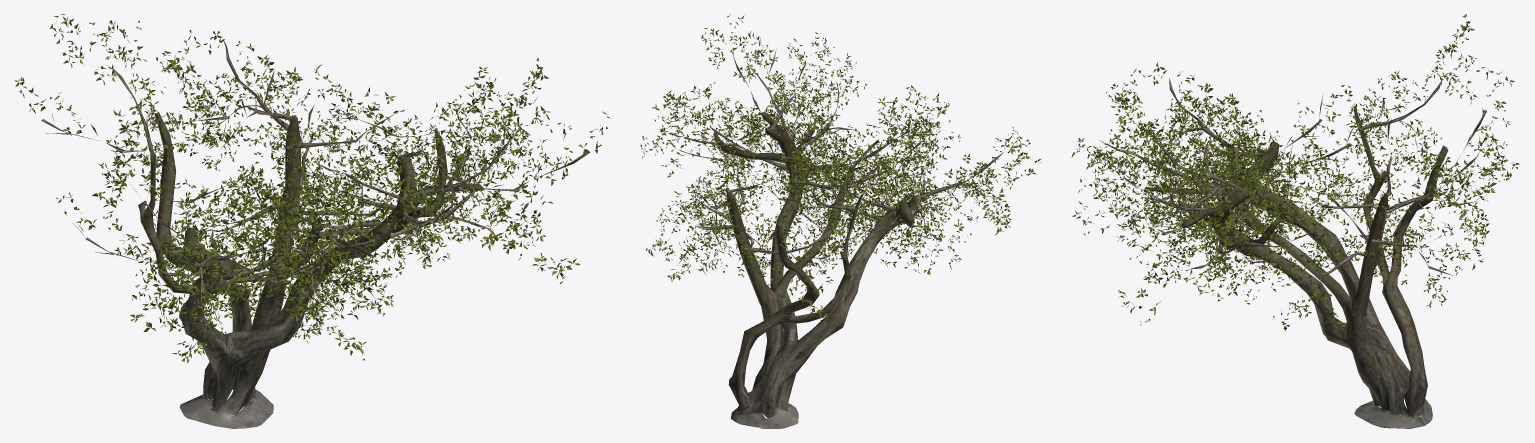
File: lana-tree.glb
The picture shows the model from 3 angles, left to right: view 1: azimuth 30°, elevation 25°; view 2: azimuth 150°, elevation 25°; view 3: azimuth 270°, elevation 25°; orthographic projection. The views are drawn at different scales.
Visible parts, largest first — view 1: island_tree_02_LOD0.002, island_tree_02_LOD0.001, island_tree_02_LOD0; view 2: island_tree_02_LOD0.002, island_tree_02_LOD0.001, island_tree_02_LOD0; view 3: island_tree_02_LOD0.002, island_tree_02_LOD0.001, island_tree_02_LOD0.
Boxes of the visible parts, x1=… form: island_tree_02_LOD0.002: x1=14, y1=14, x2=610, y2=363; island_tree_02_LOD0.001: x1=138, y1=112, x2=483, y2=428; island_tree_02_LOD0: x1=41, y1=39, x2=590, y2=349; island_tree_02_LOD0.002: x1=640, y1=14, x2=1040, y2=323; island_tree_02_LOD0.001: x1=713, y1=111, x2=920, y2=428; island_tree_02_LOD0: x1=665, y1=48, x2=1003, y2=286; island_tree_02_LOD0.002: x1=1071, y1=14, x2=1519, y2=332; island_tree_02_LOD0.001: x1=1145, y1=106, x2=1448, y2=428; island_tree_02_LOD0: x1=1099, y1=78, x2=1491, y2=298.
Bounding box in the file's own units: 3.83 × 3.4 × 4.03.
3 materials, 3 textured.
